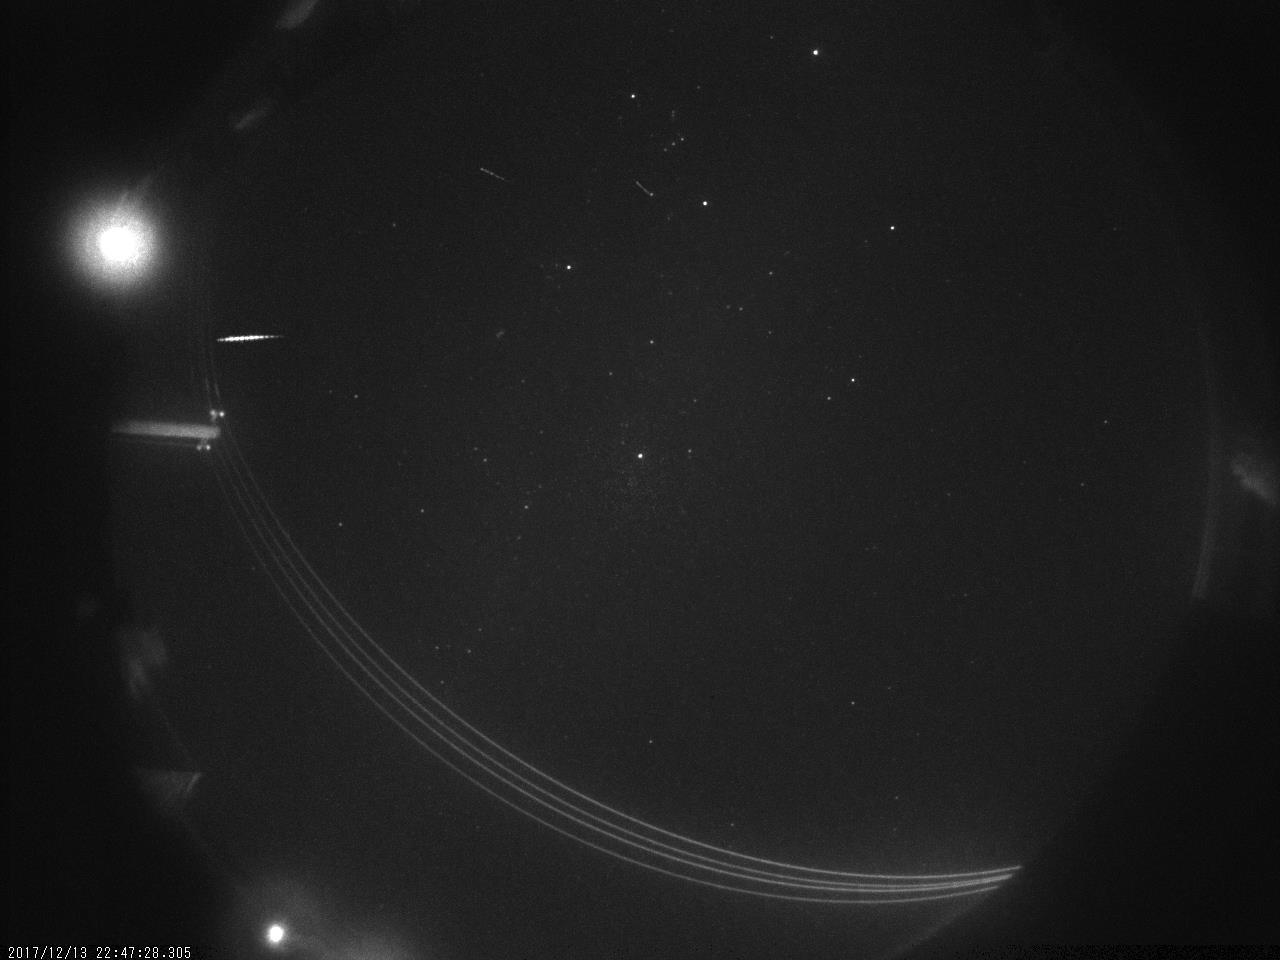Meteor: (213, 328, 283, 345), (472, 160, 515, 188), (634, 179, 651, 197)
